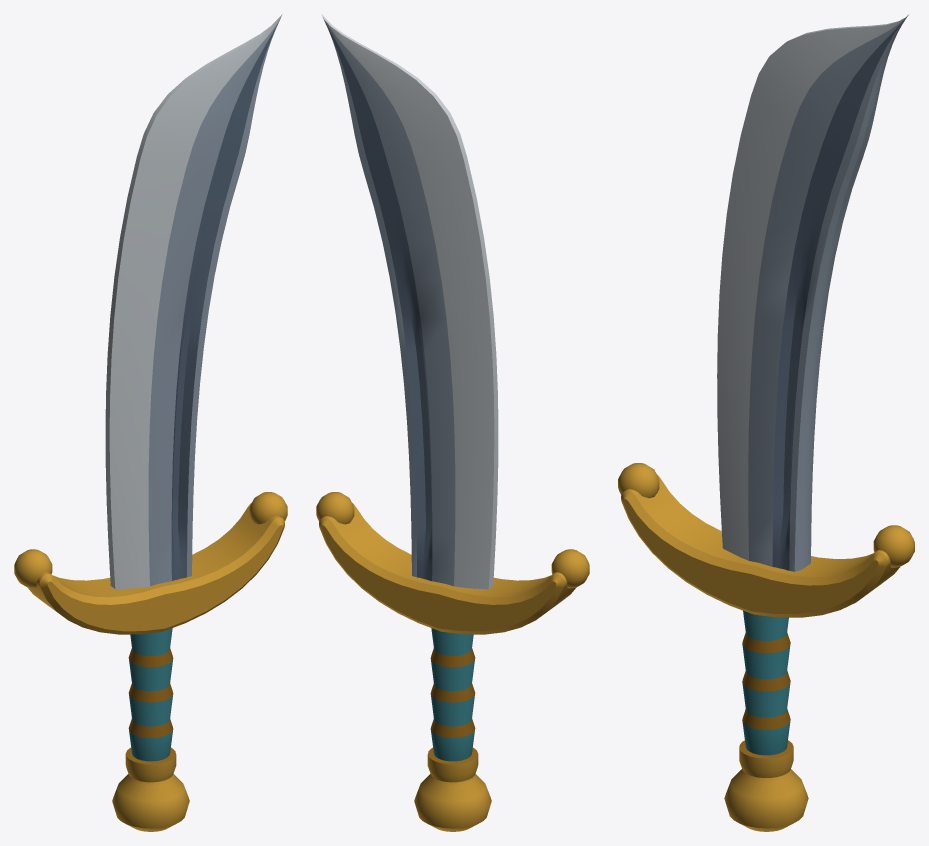
The model's file is Scimitar_08.glb.
The picture shows the model from 3 angles, left to right: view 1: azimuth 30°, elevation 25°; view 2: azimuth 150°, elevation 25°; view 3: azimuth 330°, elevation 25°; orthographic projection. The views are drawn at different scales.
Parts seen in each view (by area): view 1: Scimitar_08; view 2: Scimitar_08; view 3: Scimitar_08.
Boxes of the visible parts, box(x1,y1,x2,y2) form: Scimitar_08: box(14, 14, 287, 831); Scimitar_08: box(316, 14, 589, 831); Scimitar_08: box(618, 14, 914, 831).
Size of the model in its own units: 2.37 by 6.57 by 0.594.
